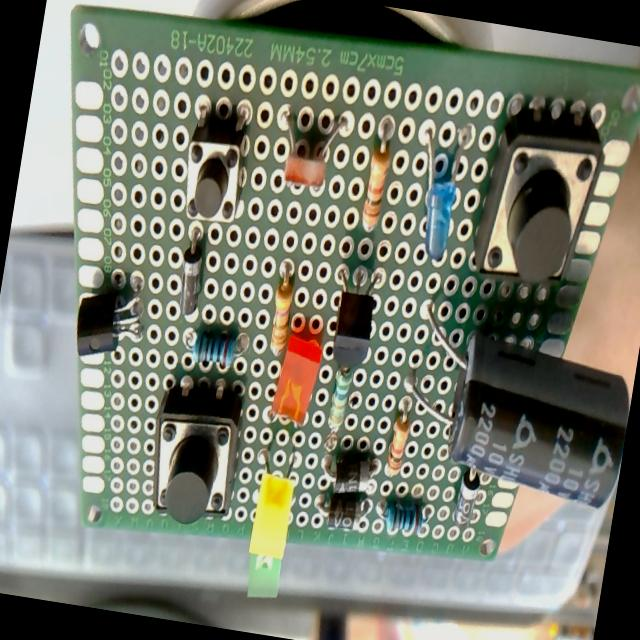Electrolytic capacitor: (395, 307, 640, 511)
cds: (270, 104, 349, 197)
diode: (172, 223, 212, 319), (329, 448, 378, 498), (322, 490, 368, 535), (451, 467, 482, 528)
led: (236, 446, 304, 600), (404, 120, 474, 264), (269, 329, 326, 428), (244, 554, 284, 602)
resistor: (358, 119, 397, 232), (266, 269, 298, 361), (322, 368, 354, 452), (374, 496, 428, 540), (190, 327, 240, 370), (383, 407, 412, 478)
switch: (469, 98, 611, 296), (140, 374, 248, 532), (178, 105, 254, 228)
transistor: (70, 280, 150, 366), (324, 260, 385, 372)
